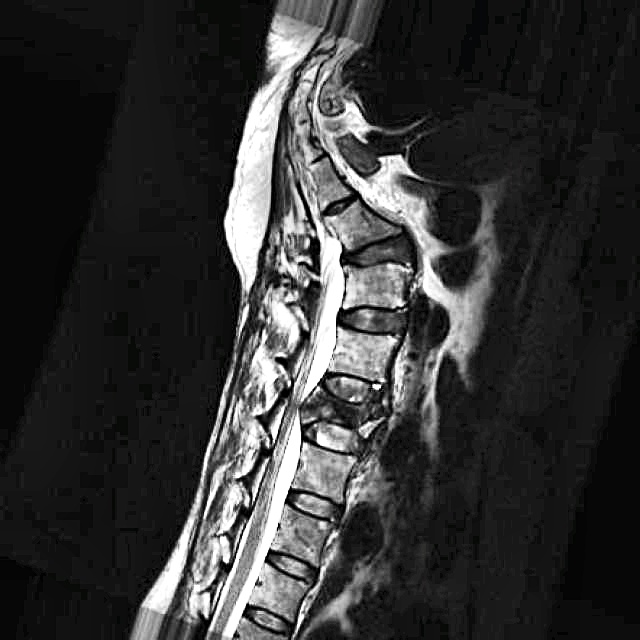Comminuted: (292, 357, 391, 460)
